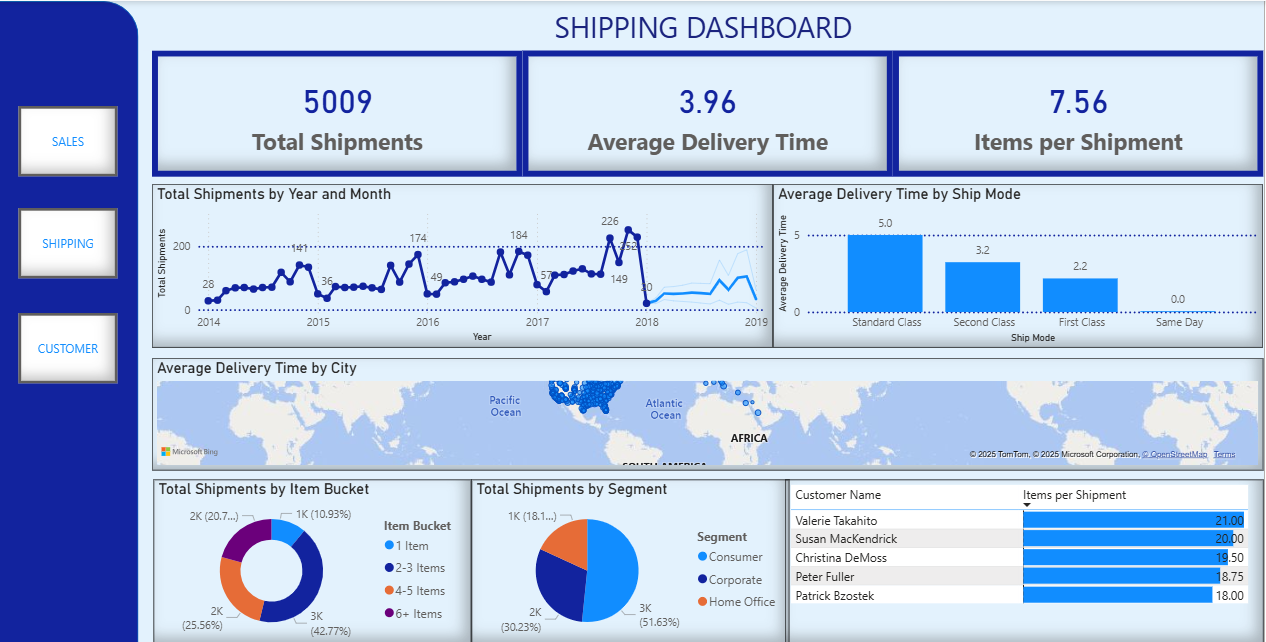

The page's visual inventory and layout, read from the dashboard file:
{"tool":"powerbi","page":{"name":"Shipping","canvas":[1420,720],"ordinal":1},"visuals":[{"type":"card","fields":{"Values":["Sample - Superstore.Total Shipments"]},"box":[174.7,55.4,414.9,141.1],"z":0},{"type":"shape","box":[164.6,0,1254.8,55.4],"z":1000},{"type":"card","fields":{"Values":["Sample - Superstore.Average Delivery Time"]},"box":[589.6,55.4,414.9,141.1],"z":2000},{"type":"card","fields":{"Values":["Sample - Superstore.Items per Shipment"]},"box":[1004.5,55.4,414.9,141.1],"z":3000},{"type":"lineChart","fields":{"Category":["Sample - Superstore.Ship Date.Variation.Date Hierarchy.Year","Sample - Superstore.Ship Date.Variation.Date Hierarchy.Month"],"Y":["Sample - Superstore.Total Shipments"]},"box":[174.7,204.9,695.4,183.1],"z":4000},{"type":"clusteredColumnChart","fields":{"Y":["Sample - Superstore.Average Delivery Time"],"Category":["Sample - Superstore.Ship Mode"]},"box":[870.9,204.8,548.6,183.3],"z":5000},{"type":"map","fields":{"Category":["Sample - Superstore.City"],"Size":["Sample - Superstore.Average Delivery Time"]},"box":[174.7,399.8,1244.7,126],"z":6000},{"type":"donutChart","fields":{"Y":["Sample - Superstore.Total Shipments"],"Series":["Sample - Superstore.Item Bucket"]},"box":[176.4,535.9,356.1,184.8],"z":7000},{"type":"pieChart","fields":{"Category":["Sample - Superstore.Segment"],"Y":["Sample - Superstore.Total Shipments"]},"box":[532.5,535.9,356.1,184.8],"z":8000},{"type":"tableEx","fields":{"Values":["Sample - Superstore.Customer Name","Sample - Superstore.Items per Shipment"]},"box":[883.6,535.9,535.9,184.8],"z":9000},{"type":"actionButton","box":[0,0,100,40],"z":10000},{"type":"shape","box":[0,0,159.6,720.6],"z":11000},{"type":"actionButton","box":[25.2,117.6,110.9,79],"z":12000},{"type":"actionButton","box":[25.2,231.8,110.9,79],"z":13000},{"type":"actionButton","box":[25.2,349.4,110.9,79],"z":14000}]}

Visuals, with their boxes on the page's 1420x720 design canvas (x1, y1, x2, y2). These are canvas units, not pixel positions in the 1266x642 screenshot, which may show the page scaled, cropped or inside an application window:
card - Sample - Superstore.Total Shipments: Rect(175, 55, 590, 196)
shape: Rect(165, 0, 1419, 55)
card - Sample - Superstore.Average Delivery Time: Rect(590, 55, 1004, 196)
card - Sample - Superstore.Items per Shipment: Rect(1004, 55, 1419, 196)
lineChart - Sample - Superstore.Ship Date.Variation.Date Hierarchy.Year x Sample - Superstore.Ship Date.Variation.Date Hierarchy.Month: Rect(175, 205, 870, 388)
clusteredColumnChart - Sample - Superstore.Average Delivery Time x Sample - Superstore.Ship Mode: Rect(871, 205, 1420, 388)
map - Sample - Superstore.City x Sample - Superstore.Average Delivery Time: Rect(175, 400, 1419, 526)
donutChart - Sample - Superstore.Total Shipments x Sample - Superstore.Item Bucket: Rect(176, 536, 532, 721)
pieChart - Sample - Superstore.Segment x Sample - Superstore.Total Shipments: Rect(532, 536, 889, 721)
tableEx - Sample - Superstore.Customer Name x Sample - Superstore.Items per Shipment: Rect(884, 536, 1420, 721)
actionButton: Rect(0, 0, 100, 40)
shape: Rect(0, 0, 160, 721)
actionButton: Rect(25, 118, 136, 197)
actionButton: Rect(25, 232, 136, 311)
actionButton: Rect(25, 349, 136, 428)
